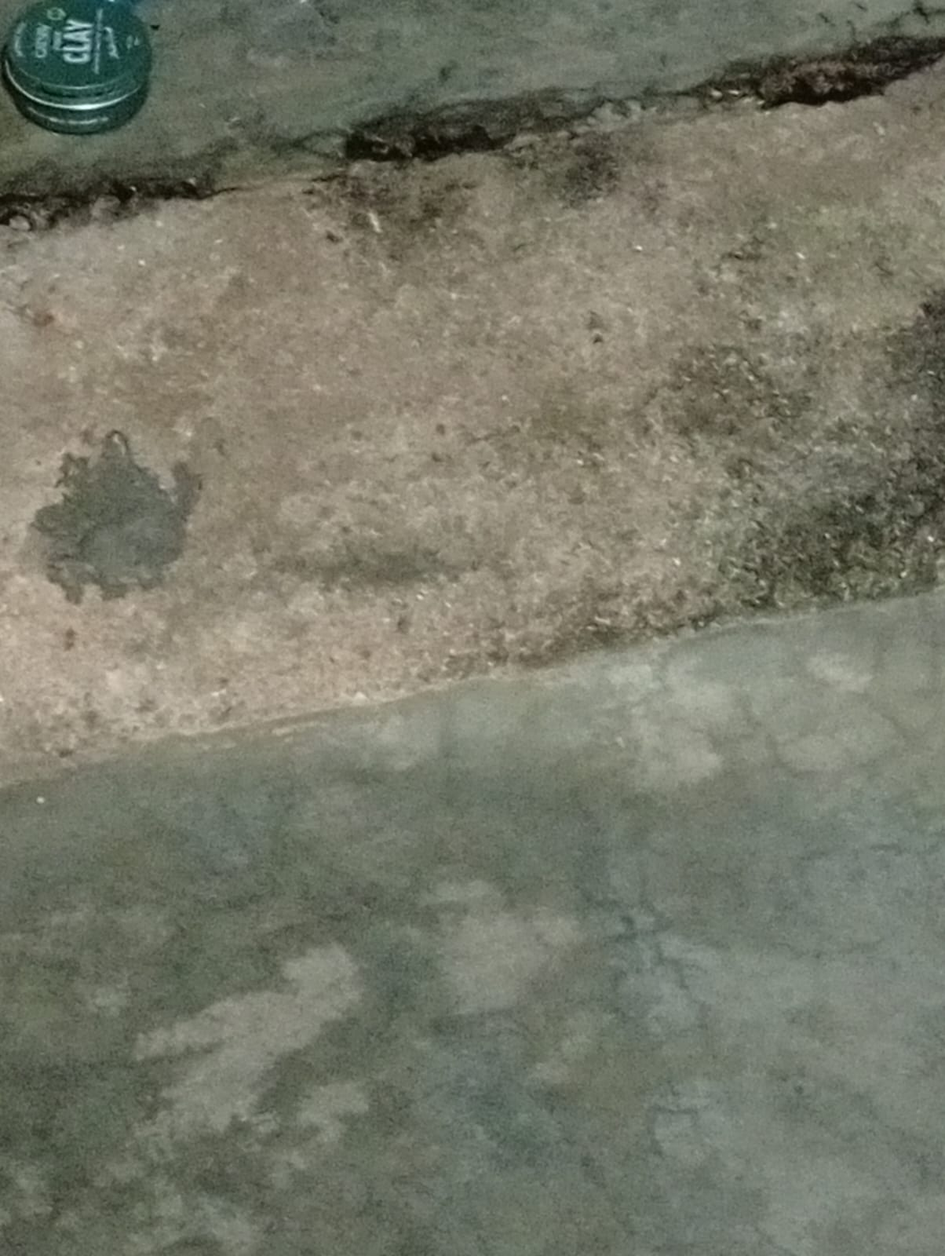Minyak_Rambut: (0, 0, 183, 143)
